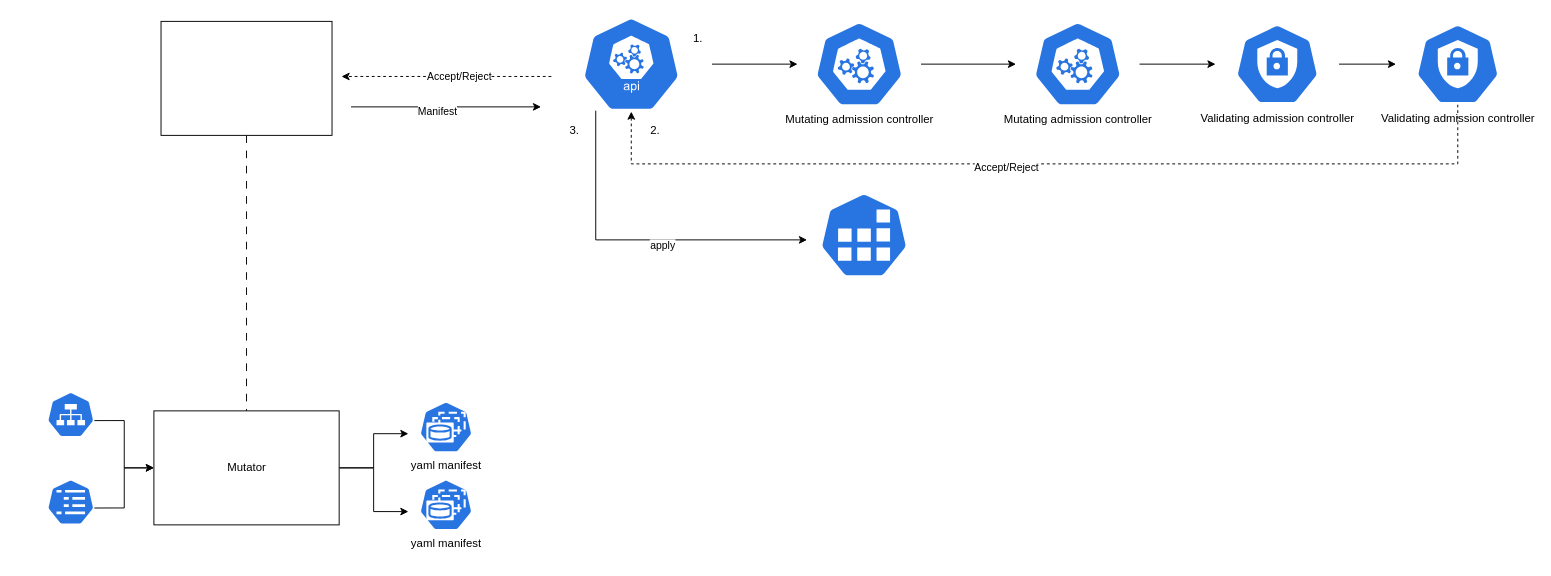
The diagram is 1551 pixels wide and 576 high, and some of its shapes have lost their labels. The centre of each missing label's shape, as x and y in pixels:
Cluster: (x=863, y=234)
Fuzzable fields config: (x=70, y=501)
k8s resource schema: (x=70, y=414)
KubeFuzz: (x=246, y=77)
